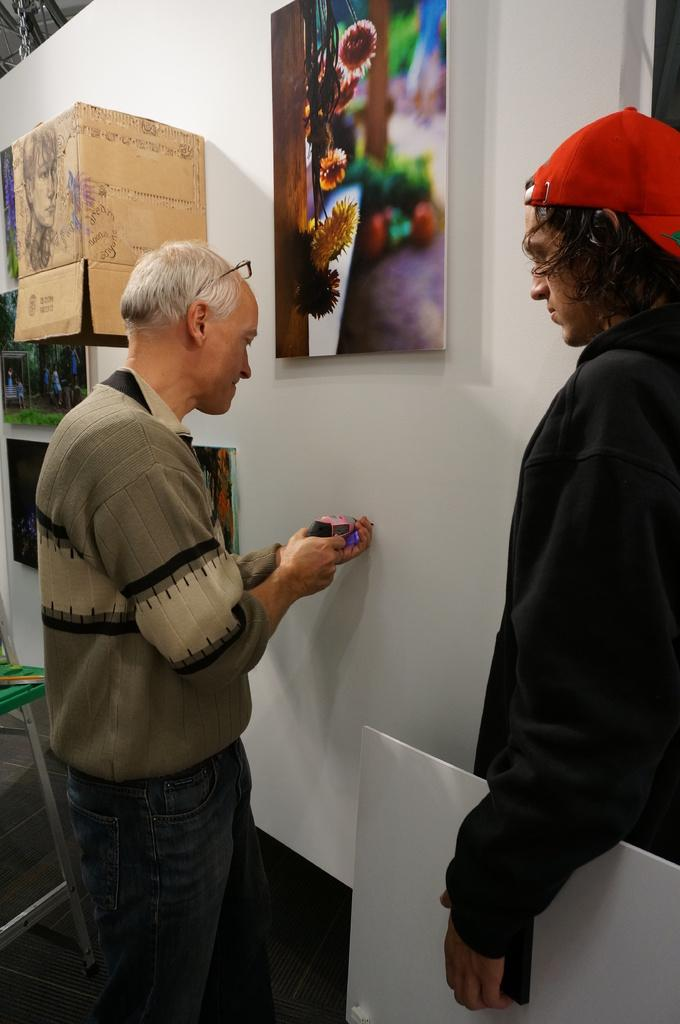Hat: (522, 100, 680, 257)
